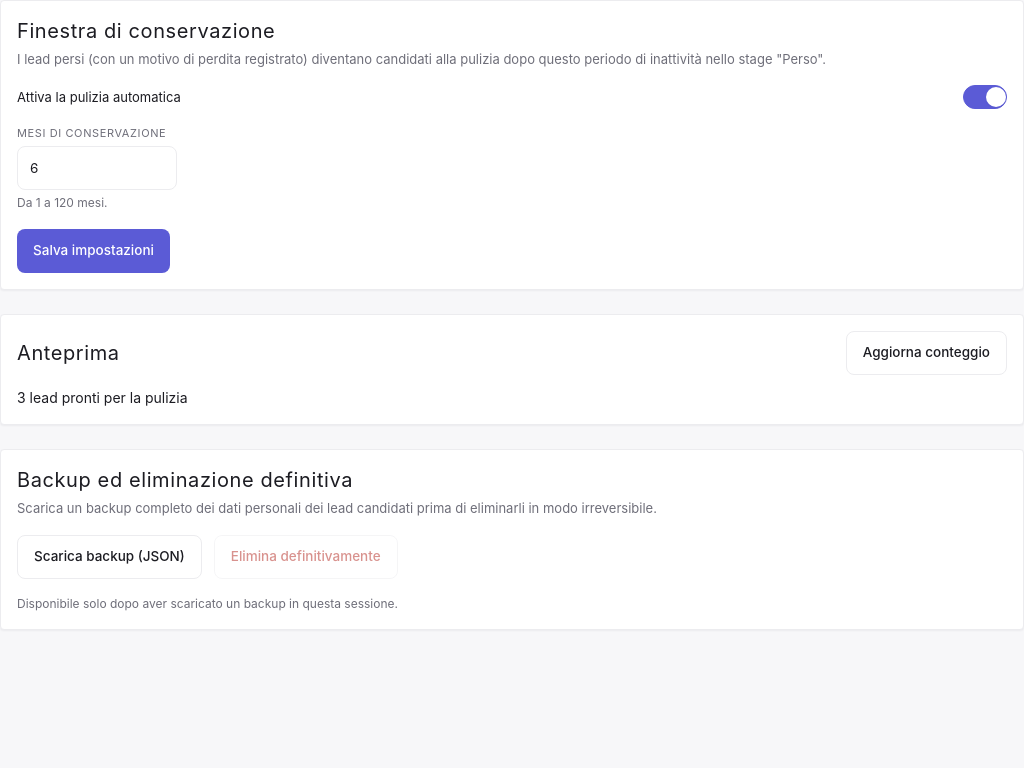
it: DataRetentionPanel › purges after explicit confirmation and shows the result summary
This screenshot has width=1024, height=768.
Click the button "Scarica backup (JSON)": [109, 557] box [17, 535, 202, 579]
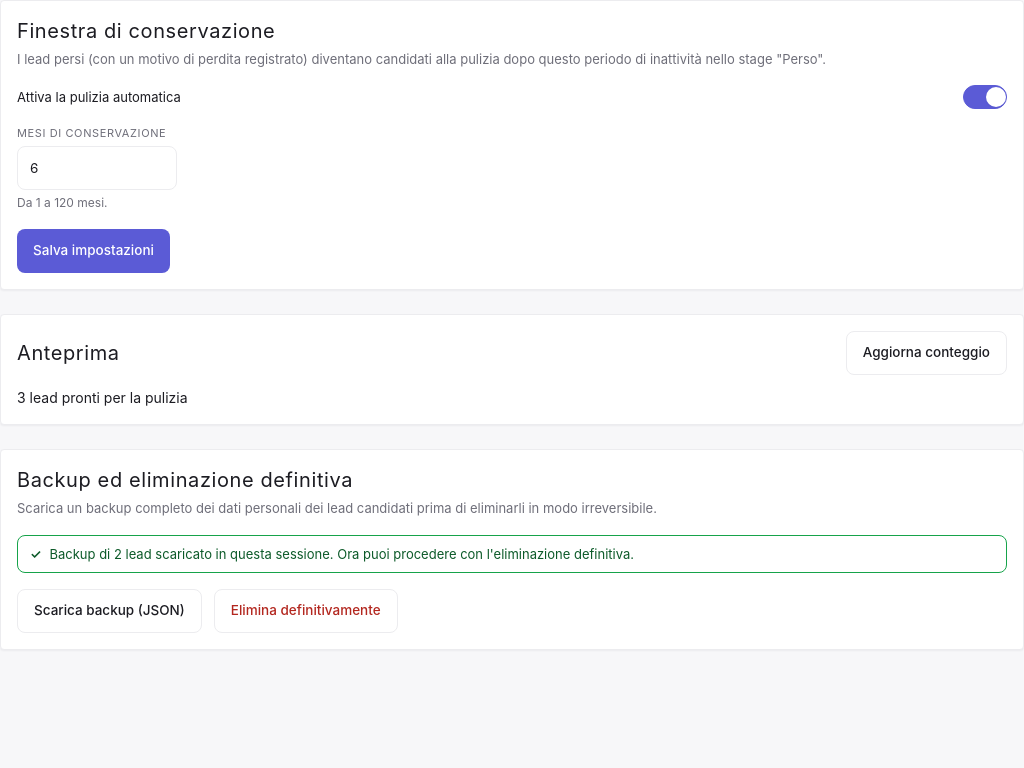
Click the button "Elimina definitivamente": [306, 611] box [214, 589, 398, 633]
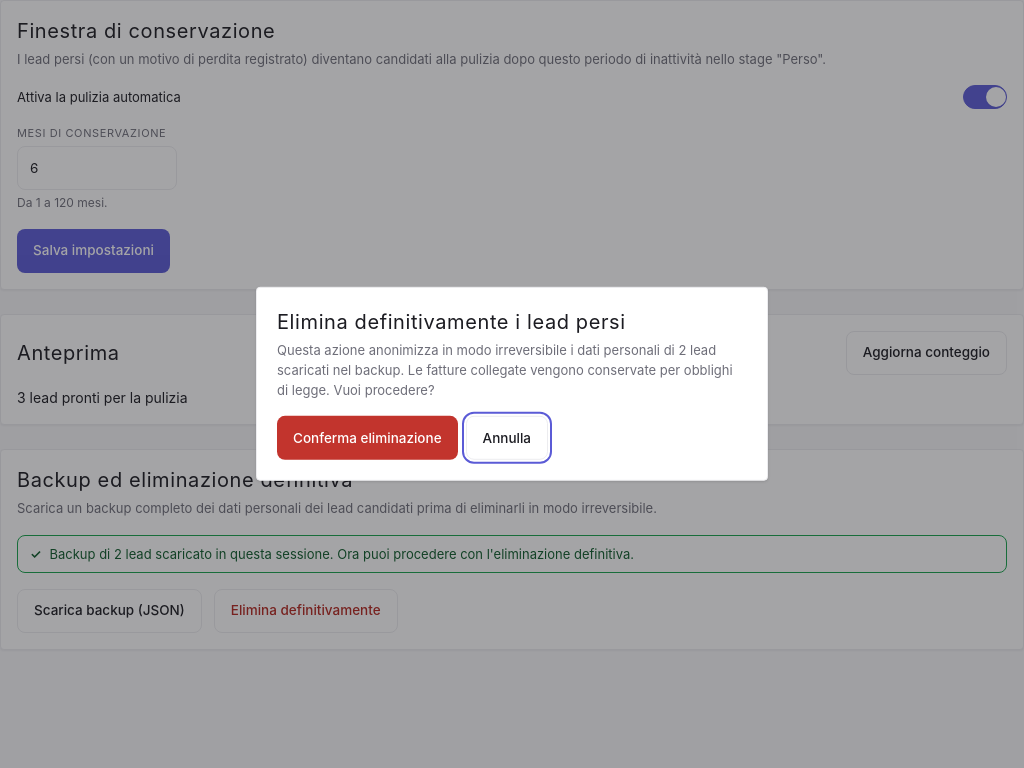
Click the button "Conferma eliminazione": [367, 438] box [277, 416, 458, 460]
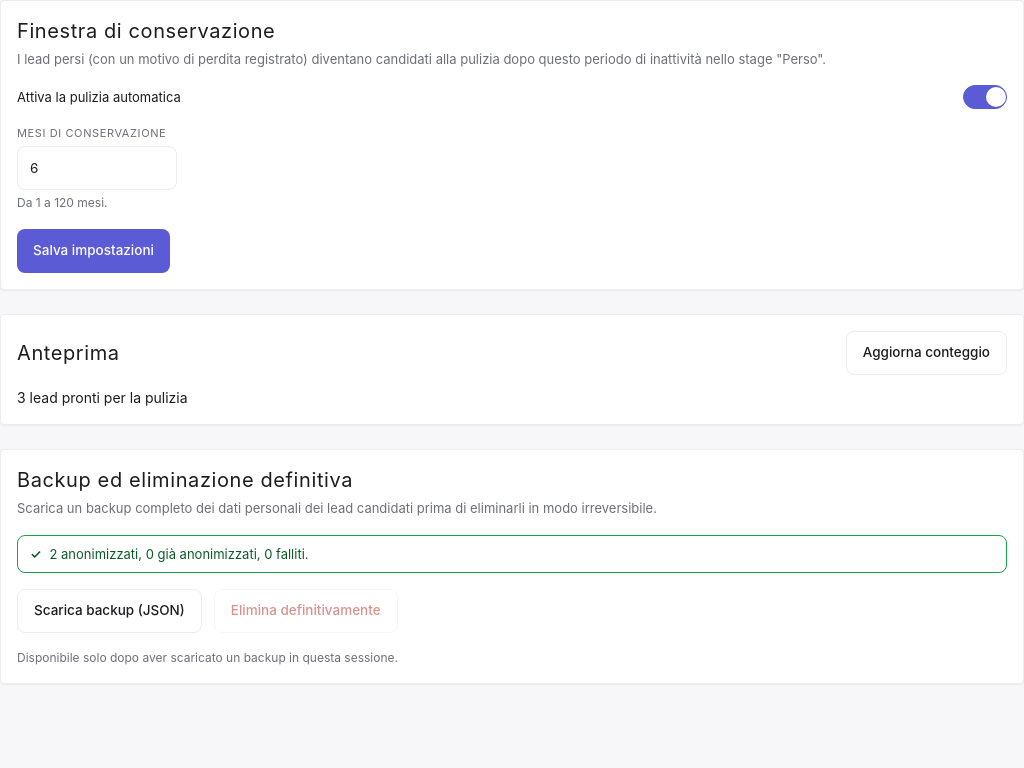
expect the text "2 anonimizzati, 0 già anonimizzati, 0 falliti." is shown: met, box [50, 544, 309, 564]
expect the button "Elimina definitivamente" is disabled: met, box [214, 589, 398, 633]
